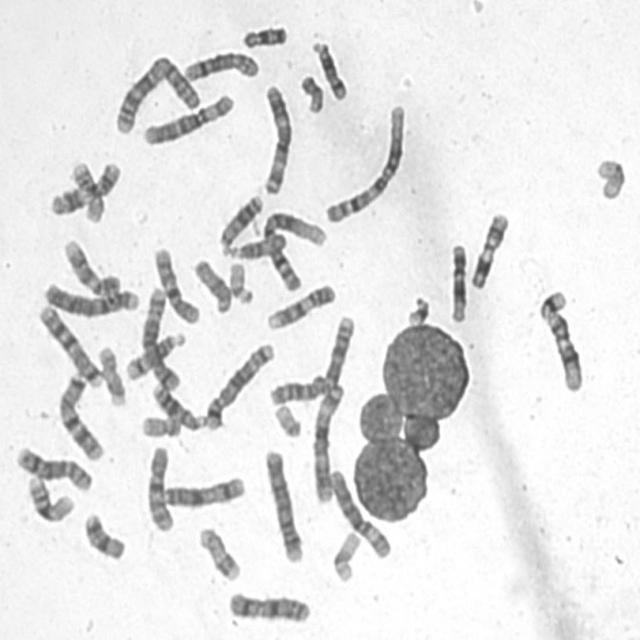A1: (321, 97, 409, 225), (257, 205, 329, 294)
A2: (265, 310, 358, 408), (111, 50, 203, 136)
A3: (308, 377, 347, 505), (258, 79, 295, 196)
B4: (260, 444, 306, 566), (41, 278, 142, 318)
B5: (202, 337, 278, 433), (138, 283, 184, 392)
C10: (150, 242, 202, 326), (143, 440, 176, 534)
C11: (46, 156, 123, 216), (467, 207, 512, 291)
C12: (542, 308, 586, 394), (447, 239, 470, 324)
C6: (326, 464, 394, 560), (140, 89, 237, 147)
C7: (34, 300, 105, 389), (54, 368, 106, 462)
C8: (12, 441, 95, 493), (180, 46, 262, 84)
C9: (59, 234, 122, 298), (263, 280, 338, 332)
D13: (150, 379, 210, 432), (216, 188, 264, 254)
D14: (122, 328, 188, 382), (307, 34, 350, 102)
D15: (190, 253, 234, 315), (219, 230, 290, 259)
E16: (24, 470, 76, 525), (70, 160, 105, 224)
E17: (195, 523, 243, 583), (95, 342, 128, 409)
E18: (80, 508, 127, 563), (239, 21, 290, 50)
F19: (328, 527, 362, 584), (592, 153, 628, 202)
F20: (296, 70, 326, 115), (138, 412, 184, 438)
G21: (536, 286, 569, 321), (403, 291, 432, 327)
G22: (225, 258, 256, 306), (271, 400, 304, 440)
X: (158, 471, 247, 510), (225, 587, 314, 626)
